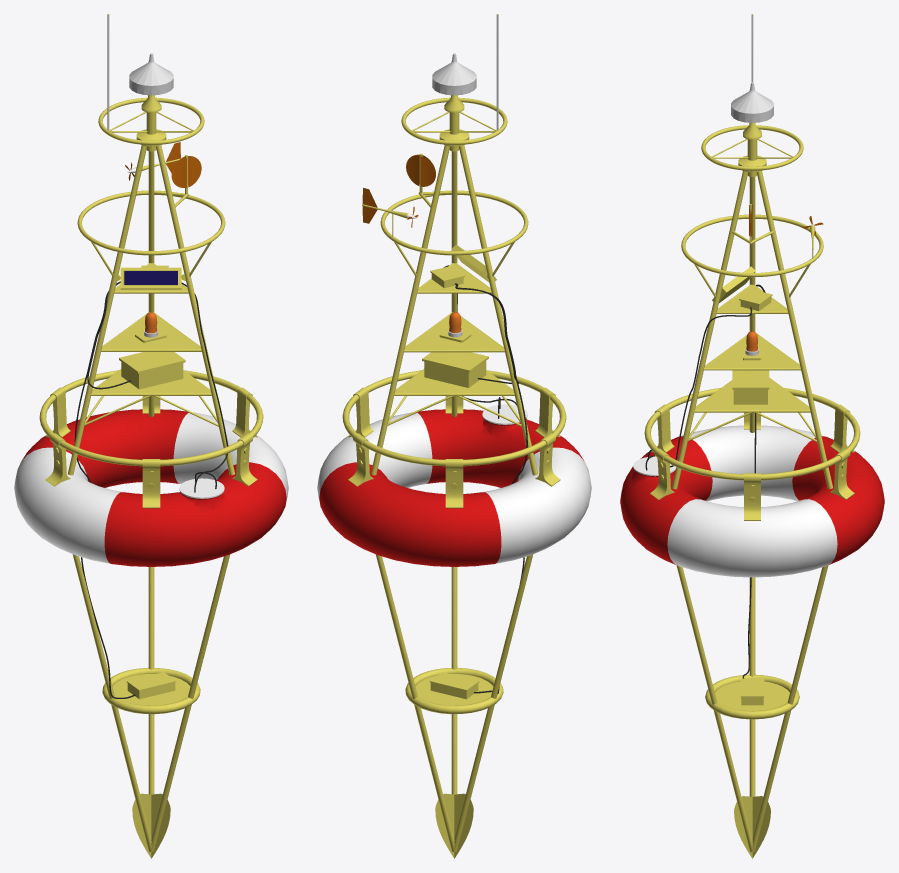
The model's file is buoy.glb.
3 views of the same model, side by side, from view 1: azimuth 30°, elevation 25°; view 2: azimuth 150°, elevation 25°; view 3: azimuth 270°, elevation 25° (orthographic). The views are drawn at different scales.
Visible parts, largest first — view 1: Floater.7, Body.3, GPS.8, Electronic.6, Solar Panel.13, Cables.4, Terminal.14, Dipping Sensor.5, Radar Reflector.11; view 2: Floater.7, Body.3, GPS.8, Electronic.6, Terminal.14, Dipping Sensor.5, Cables.4, Radar Reflector.11, Meteorological sensor.10, transformer.15; view 3: Floater.7, Body.3, GPS.8, Electronic.6, Terminal.14, Cables.4, Dipping Sensor.5.
Part boxes in pixels (left/top/right/bottom): Floater.7: left=14, top=409, right=288, bottom=566; Body.3: left=39, top=97, right=263, bottom=851; GPS.8: left=129, top=53, right=173, bottom=151; Electronic.6: left=119, top=352, right=185, bottom=389; Solar Panel.13: left=120, top=267, right=181, bottom=289; Cables.4: left=74, top=281, right=228, bottom=698; Terminal.14: left=132, top=793, right=170, bottom=858; Dipping Sensor.5: left=126, top=672, right=176, bottom=699; Radar Reflector.11: left=171, top=155, right=201, bottom=194; Floater.7: left=317, top=404, right=591, bottom=566; Body.3: left=342, top=97, right=566, bottom=851; GPS.8: left=432, top=53, right=476, bottom=151; Electronic.6: left=422, top=352, right=488, bottom=387; Terminal.14: left=435, top=786, right=473, bottom=858; Dipping Sensor.5: left=429, top=672, right=479, bottom=699; Cables.4: left=443, top=265, right=527, bottom=693; Radar Reflector.11: left=406, top=153, right=435, bottom=193; Meteorological sensor.10: left=362, top=188, right=418, bottom=227; transformer.15: left=430, top=266, right=464, bottom=288; Floater.7: left=620, top=425, right=884, bottom=577; Body.3: left=644, top=125, right=860, bottom=852; GPS.8: left=731, top=82, right=773, bottom=176; Electronic.6: left=732, top=370, right=769, bottom=404; Terminal.14: left=734, top=796, right=770, bottom=858; Cables.4: left=645, top=284, right=765, bottom=678; Dipping Sensor.5: left=740, top=678, right=764, bottom=705.
Size of the model in its own units: 481 by 1654 by 481.
